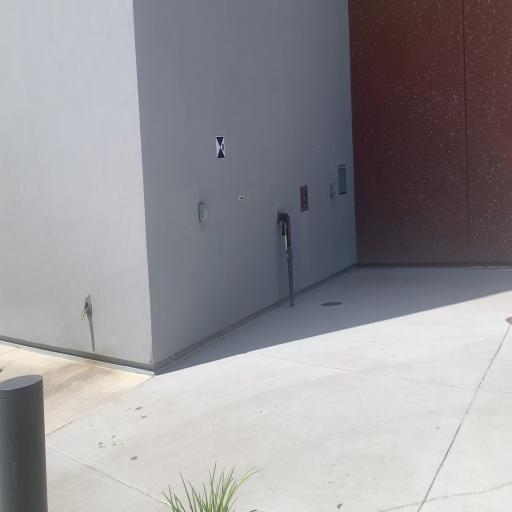target8: (216, 136, 225, 159)
